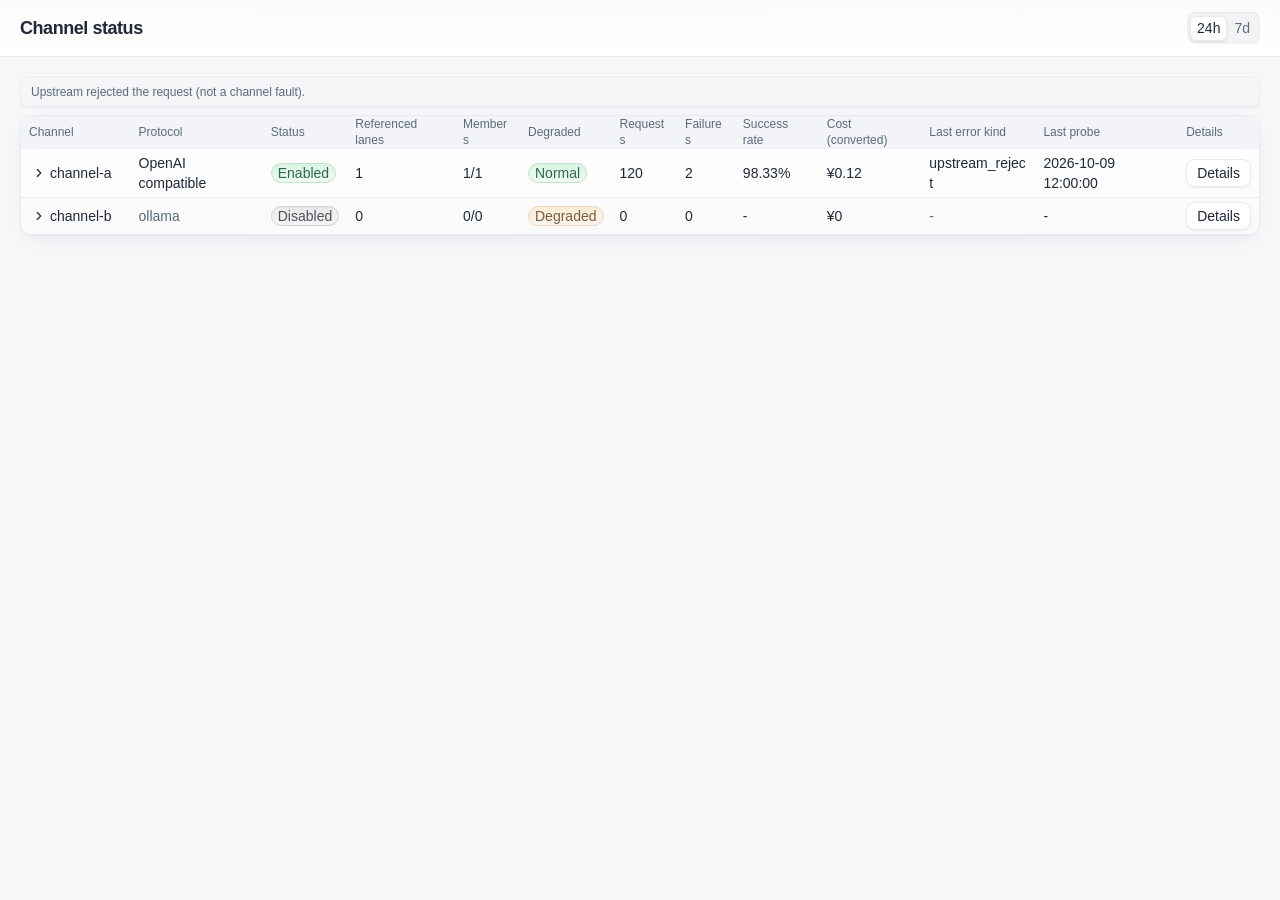
Test case: 渠道状态页 › opens the status drawer from the row detail button
Expected: the text "channel-a" is shown, [50,163,112,183]
Click the button "Details" in the row of "OpenAI compatible" at (1219, 173), box [1186,159,1251,187]
(page scrolled)
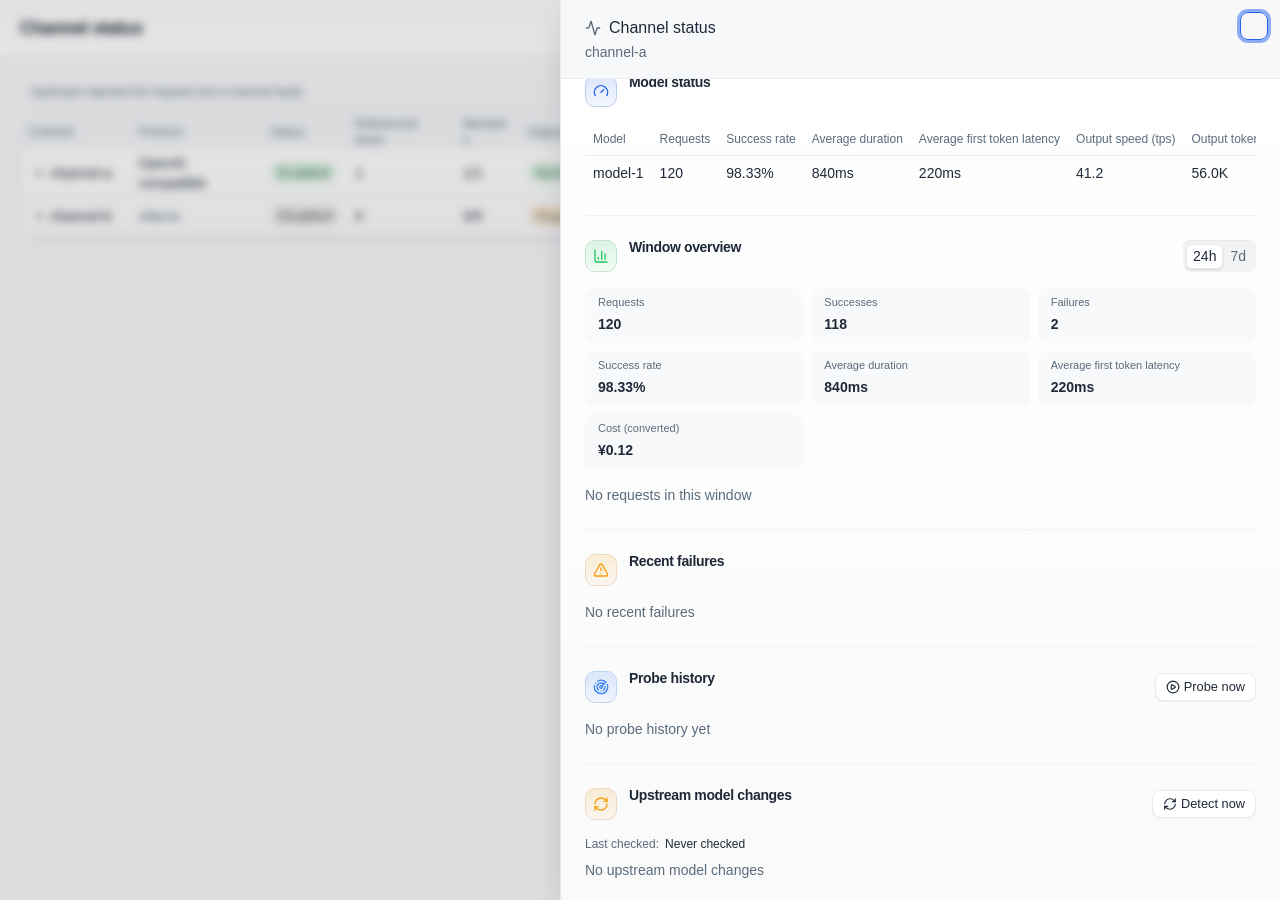
Result: the heading "Window overview" is shown at [629,239,741,255]
Result: the heading "Upstream model changes" is shown at [629,787,792,803]
